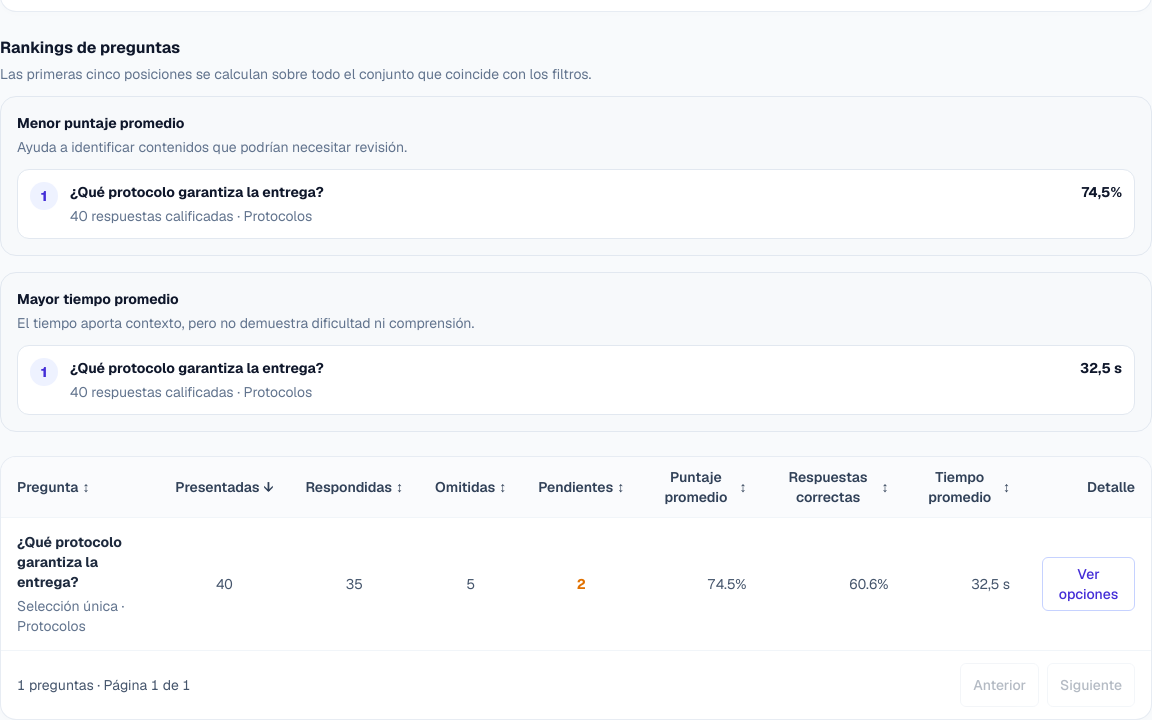
Test case: reportes docentes › carga las variantes del grupo al abrir el detalle desde preguntas
This screenshot has width=1152, height=720.
(page scrolled)
Click the button "Ver opciones": [1088, 584] box [1042,556,1135,610]
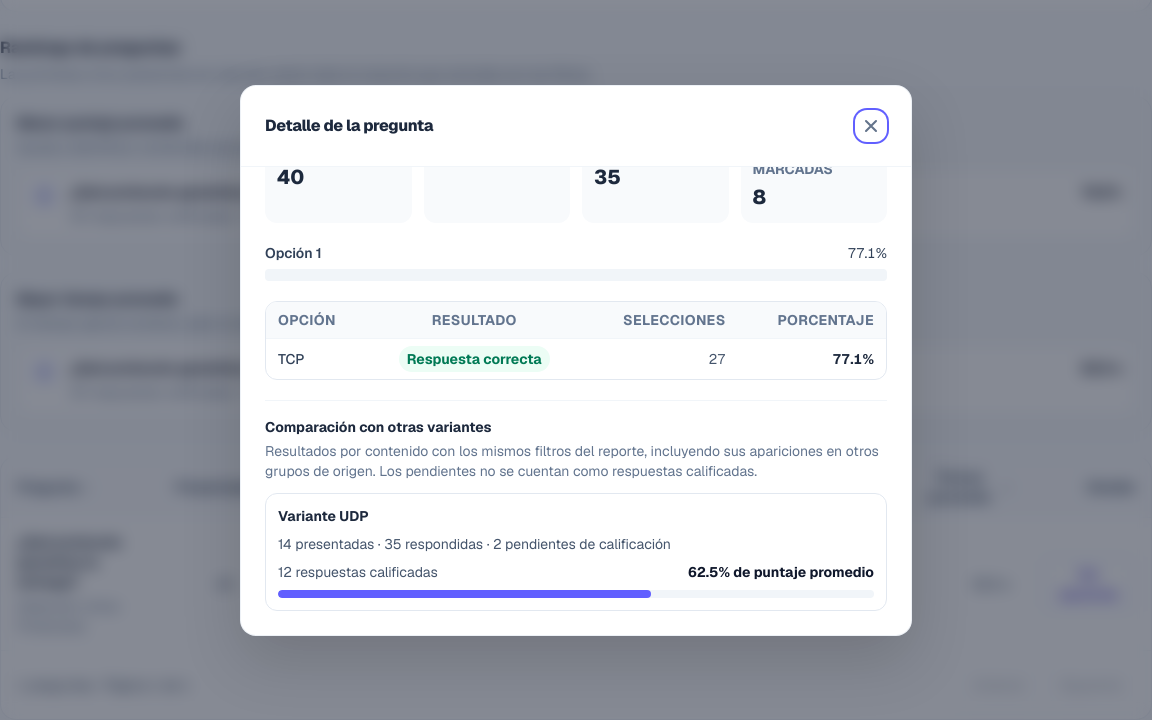
Check: the text "Variante UDP" is shown, box [278,506,369,524]
Check: the text "12 respuestas calificadas" is shown, box [278,562,438,582]
Check: the text "62.5% de puntaje promedio" is shown, box [688,562,874,582]
